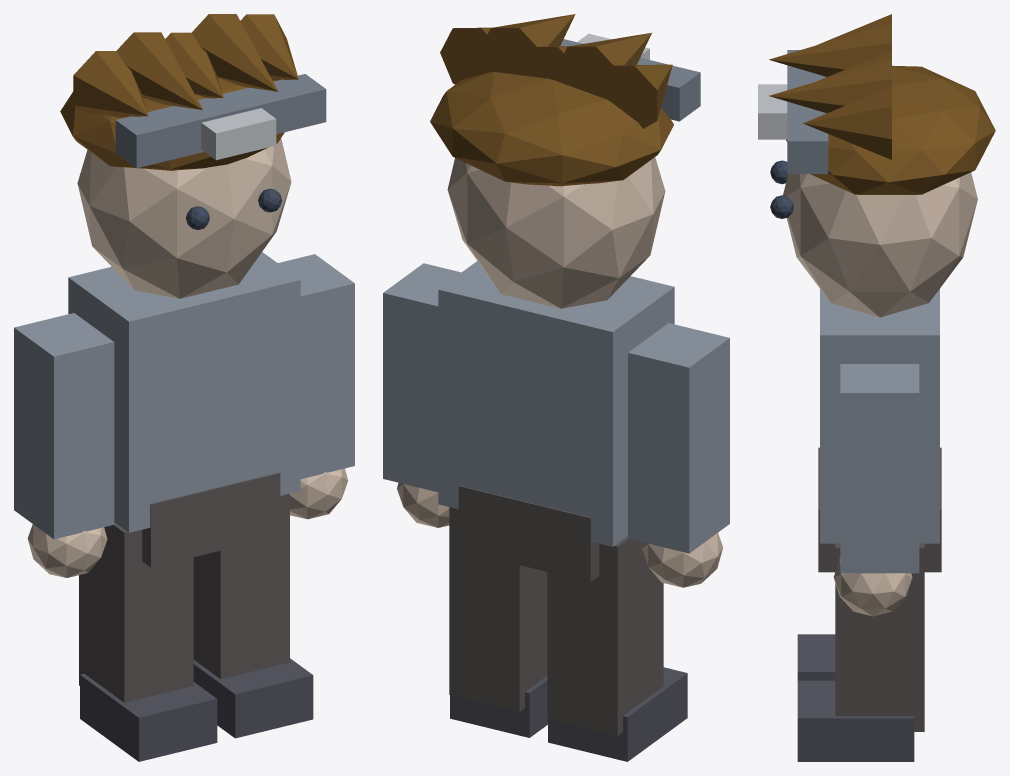
Rendered from kiba.glb.
3 views of the same model, side by side, from view 1: azimuth 30°, elevation 25°; view 2: azimuth 150°, elevation 25°; view 3: azimuth 270°, elevation 25° (orthographic). The views are drawn at different scales.
Visible parts, largest first — view 1: part_000, part_010, part_002, part_004, part_008, part_006, part_001, part_019, part_005, part_009, part_013, part_015 (+7 smaller); view 2: part_000, part_010, part_002, part_013, part_004, part_008, part_006, part_001, part_005, part_015, part_017, part_014 (+6 smaller); view 3: part_010, part_006, part_000, part_013, part_008, part_009, part_018, part_015, part_017, part_019, part_007, part_005 (+3 smaller).
Boxes of the visible parts, x1,y1,x2,y2 form: part_000: [68, 252, 300, 532]; part_010: [77, 138, 291, 298]; part_002: [14, 313, 114, 539]; part_004: [79, 522, 193, 702]; part_008: [193, 493, 289, 679]; part_006: [278, 254, 354, 478]; part_001: [142, 472, 280, 567]; part_019: [115, 74, 326, 168]; part_005: [80, 673, 217, 761]; part_009: [193, 658, 313, 738]; part_013: [60, 78, 284, 170]; part_015: [116, 32, 202, 109]; part_000: [438, 261, 674, 546]; part_010: [447, 157, 665, 308]; part_002: [628, 323, 729, 553]; part_013: [430, 72, 673, 186]; part_004: [547, 536, 663, 735]; part_008: [449, 507, 547, 711]; part_006: [383, 263, 461, 492]; part_001: [458, 485, 599, 582]; part_005: [548, 667, 687, 761]; part_015: [555, 32, 651, 101]; part_017: [478, 14, 575, 77]; part_014: [593, 64, 672, 128]; part_010: [783, 172, 977, 317]; part_006: [840, 364, 919, 573]; part_000: [820, 289, 939, 543]; part_013: [786, 65, 995, 194]; part_008: [835, 543, 924, 731]; part_009: [797, 680, 914, 761]; part_018: [803, 86, 891, 159]; part_015: [769, 23, 891, 76]; part_017: [769, 59, 891, 113]; part_019: [787, 50, 828, 173]; part_007: [833, 558, 912, 616]; part_005: [797, 634, 835, 680].
Size of the model in its own units: 1.03 by 2.17 by 0.6928.
